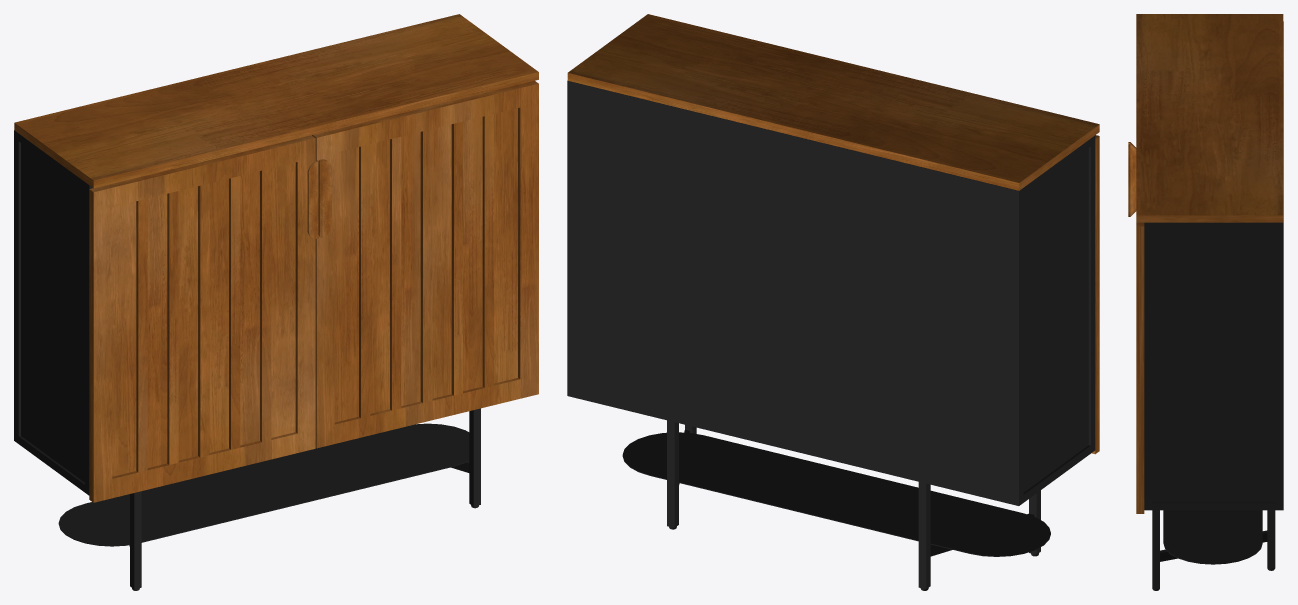
The model's file is shoe_cabinet_borgin.glb.
3 renders of one model, left to right at view 1: azimuth 30°, elevation 25°; view 2: azimuth 150°, elevation 25°; view 3: azimuth 270°, elevation 25°, orthographic. The views are drawn at different scales.
Visible parts, largest first — view 1: Object_3, Object_2, Object_5, Object_4; view 2: Object_5, Object_4, Object_3; view 3: Object_5, Object_4, Object_2.
Part boxes in pixels (<box>): Object_3: <box>89,135,315,502</box>; Object_2: <box>312,81,538,448</box>; Object_5: <box>14,130,480,590</box>; Object_4: <box>14,14,538,238</box>; Object_5: <box>567,80,1095,590</box>; Object_4: <box>567,14,1099,190</box>; Object_3: <box>1092,135,1099,454</box>; Object_5: <box>1144,21,1283,590</box>; Object_4: <box>1128,14,1283,222</box>; Object_2: <box>1136,222,1144,513</box>.
Bounding box in the file's own units: 1.18 × 1.09 × 0.3848.
Materials: 4 (3 with a texture image).
